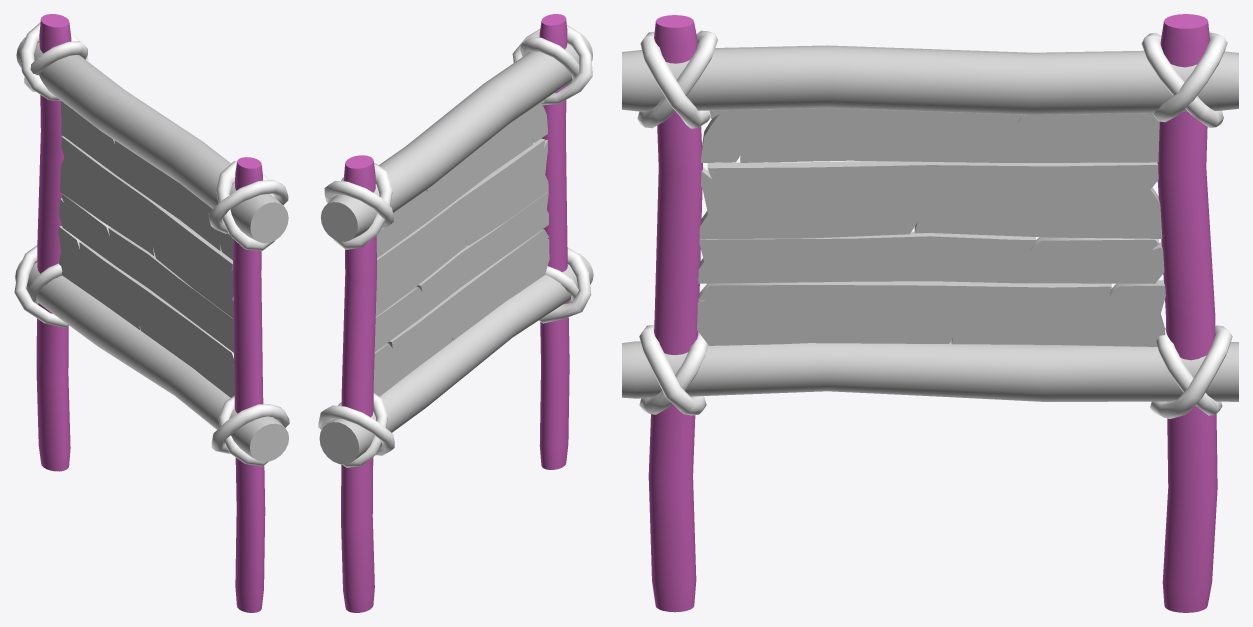
The model's file is ScoreBoard.fbx.
3 renders of one model, left to right at view 1: azimuth 30°, elevation 25°; view 2: azimuth 150°, elevation 25°; view 3: azimuth 270°, elevation 25°, orthographic. The views are drawn at different scales.
Parts seen in each view (by area): view 1: Scoreboard; view 2: Scoreboard; view 3: Scoreboard.
Part boxes in pixels (x1,y1,x2,y2): Scoreboard: (14, 14, 289, 612); Scoreboard: (318, 14, 593, 612); Scoreboard: (622, 14, 1238, 612).
Size of the model in its own units: 204 by 1084 by 1037.
